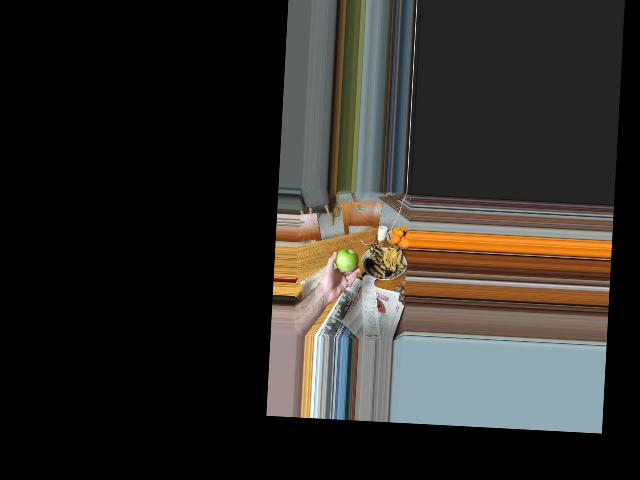apple: (334, 248, 356, 271)
